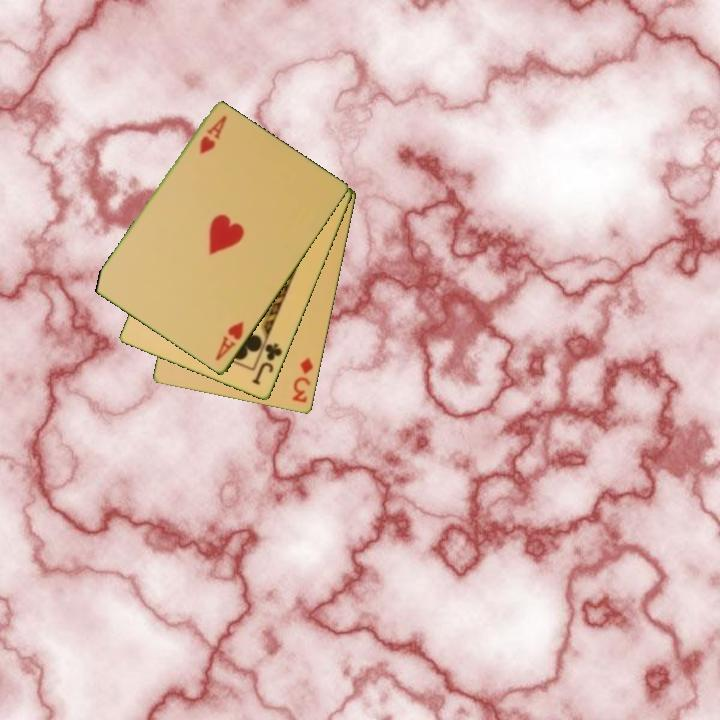3d: (289, 354, 316, 406)
Ah: (212, 318, 247, 364), (196, 112, 230, 157)
Jc: (249, 340, 285, 388)
